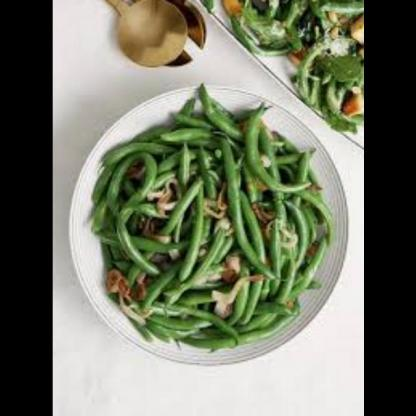fasol: (62, 107, 331, 357)
